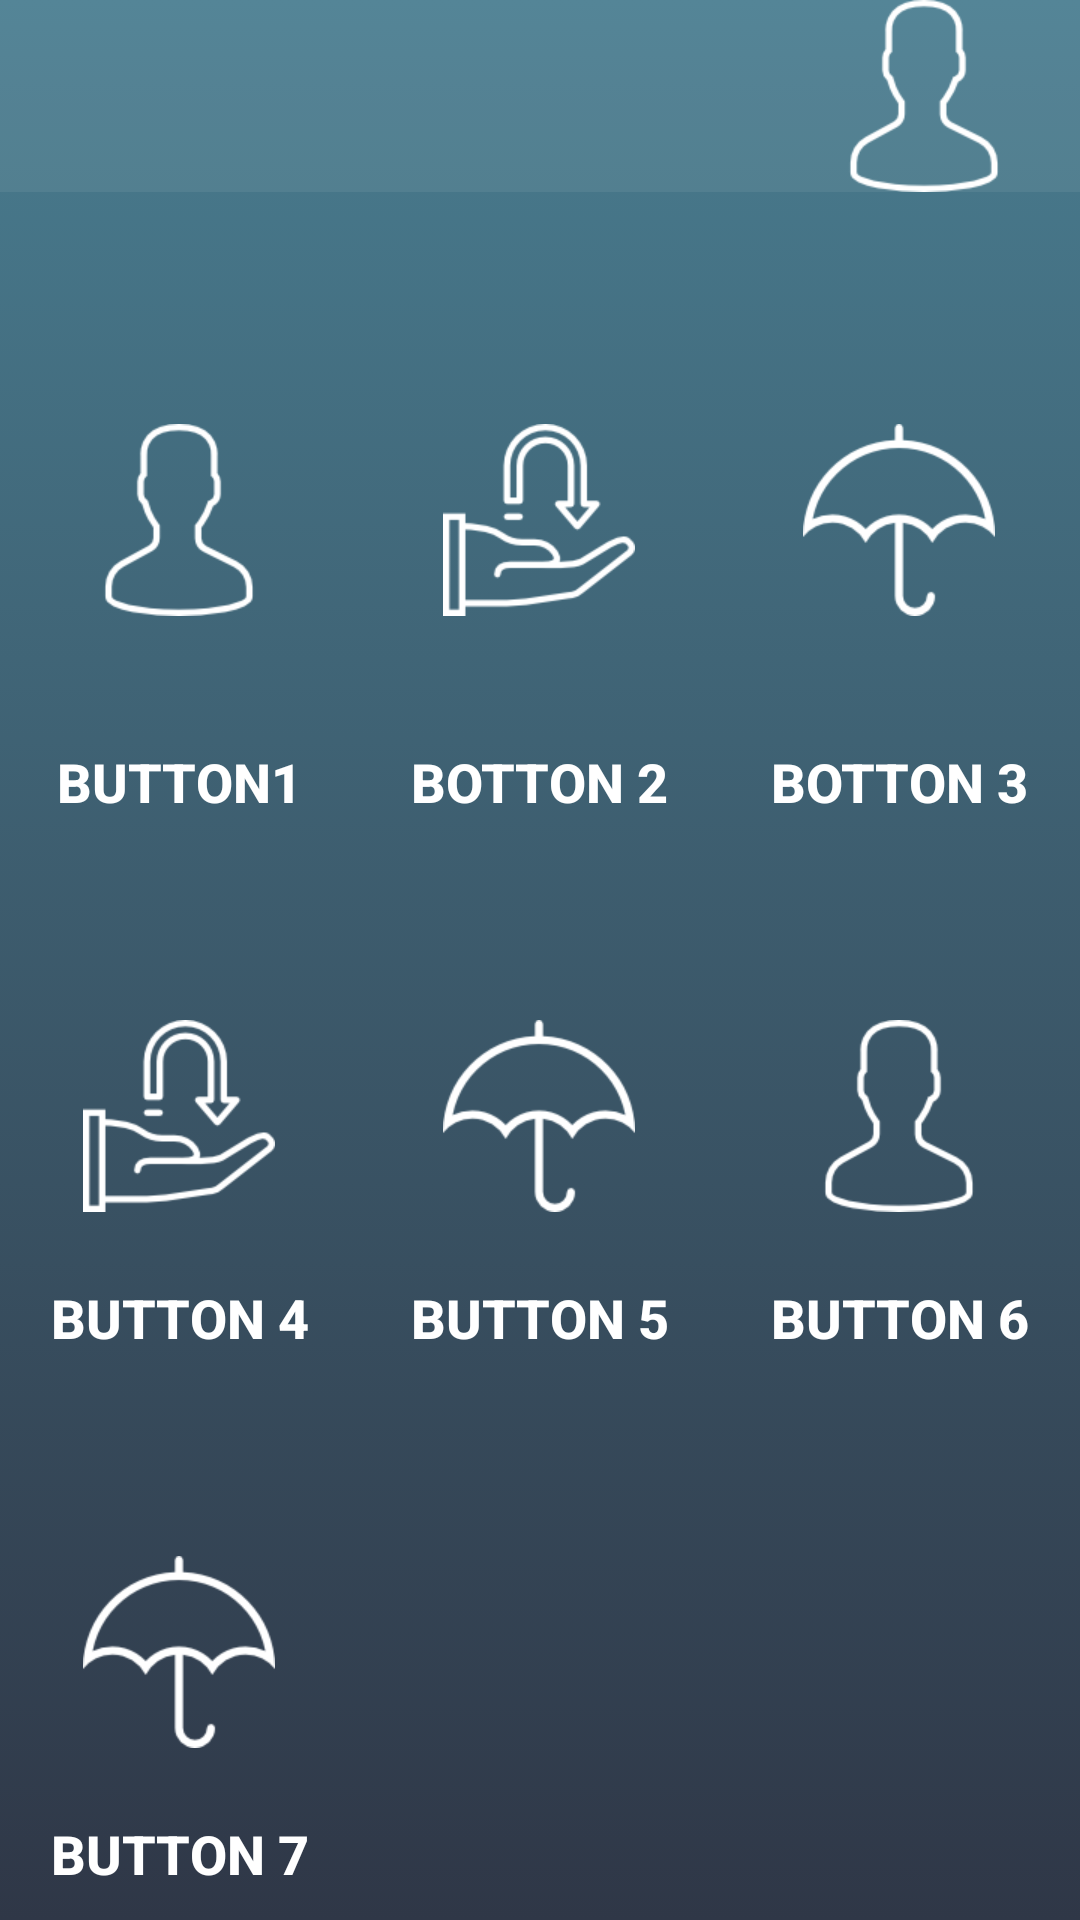

Named icons in this screenshot (1080*1920) and their bounding boxes, (x1, y1, x2, y2):
receive: (443, 424, 635, 616), (83, 1020, 275, 1212)
umbrella: (803, 424, 995, 616), (443, 1020, 635, 1212), (83, 1556, 275, 1748)
user: (850, 0, 998, 192), (105, 424, 253, 616), (825, 1020, 973, 1212)
